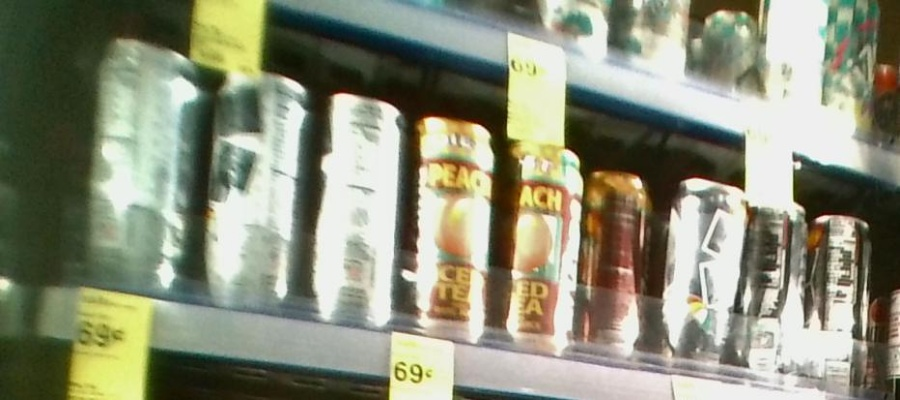bottle: (82, 31, 200, 300), (203, 45, 308, 318), (313, 67, 406, 330), (408, 90, 498, 345), (658, 164, 743, 381), (504, 127, 582, 361), (586, 146, 654, 373), (745, 183, 808, 384), (811, 203, 874, 397)
